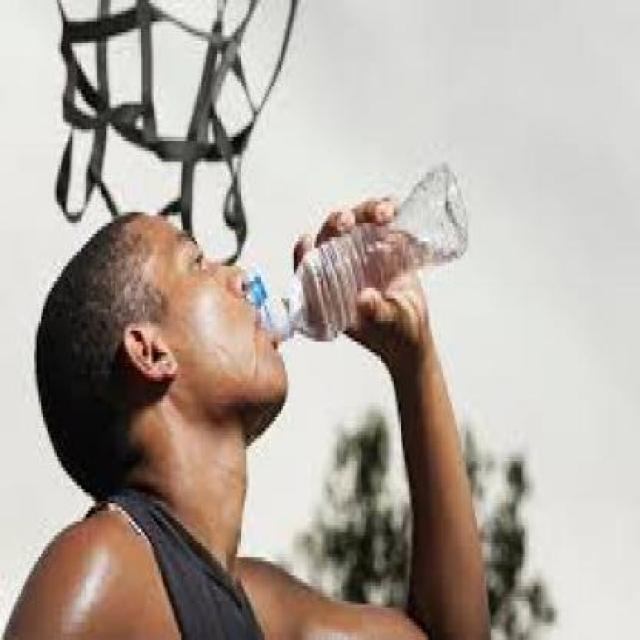Drinking: (260, 154, 477, 346)
